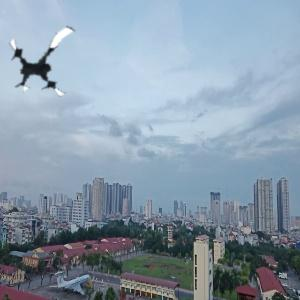drone: (4, 19, 90, 105)
